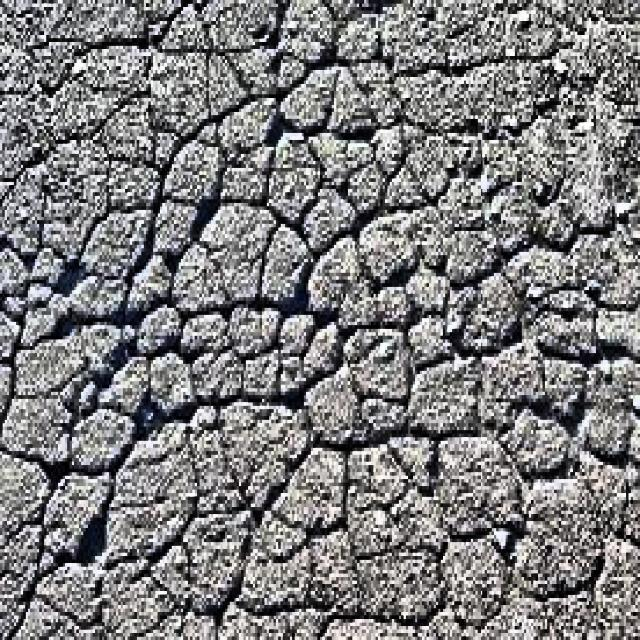Potholes: (0, 0, 638, 616)
